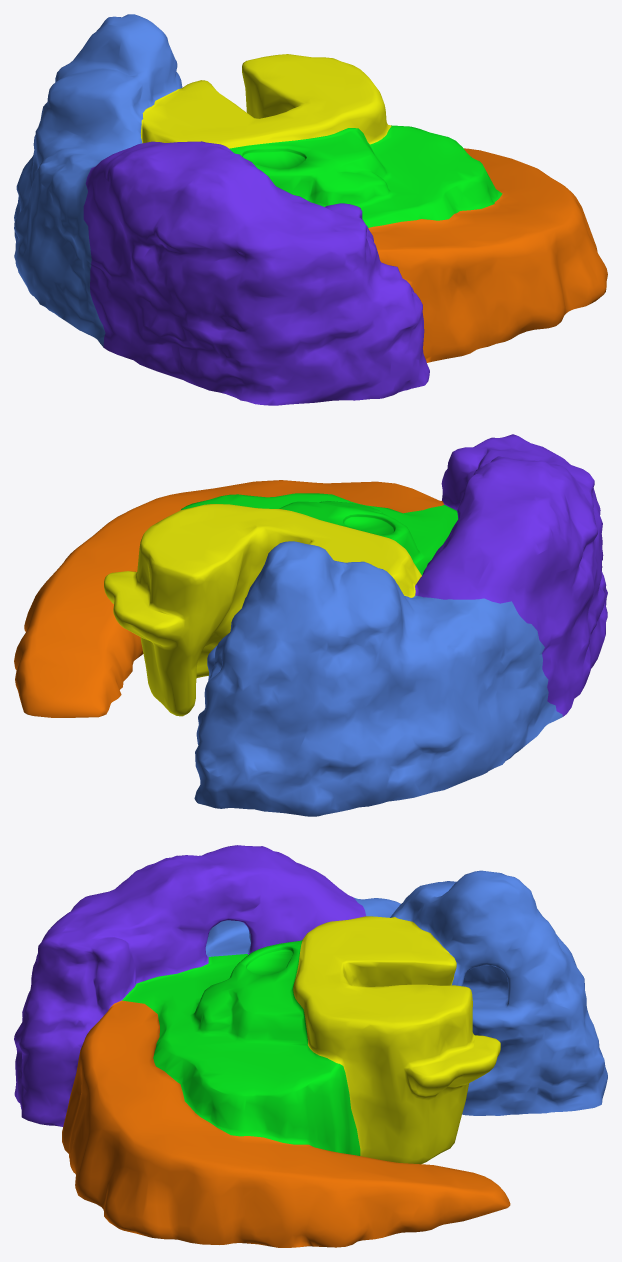
File: m_Terrain.fbx
3 views of the same model, one above another, from view 1: azimuth 30°, elevation 25°; view 2: azimuth 150°, elevation 25°; view 3: azimuth 270°, elevation 25° (orthographic). The views are drawn at different scales.
Visible parts, largest first — view 1: Terrain_low_modified; view 2: Terrain_low_modified; view 3: Terrain_low_modified.
Part boxes in pixels (bbox=[...]): Terrain_low_modified: bbox=[14, 14, 607, 405]; Terrain_low_modified: bbox=[14, 434, 607, 816]; Terrain_low_modified: bbox=[14, 845, 607, 1247].
Bounding box in the file's own units: 3025 × 1280 × 3274.
